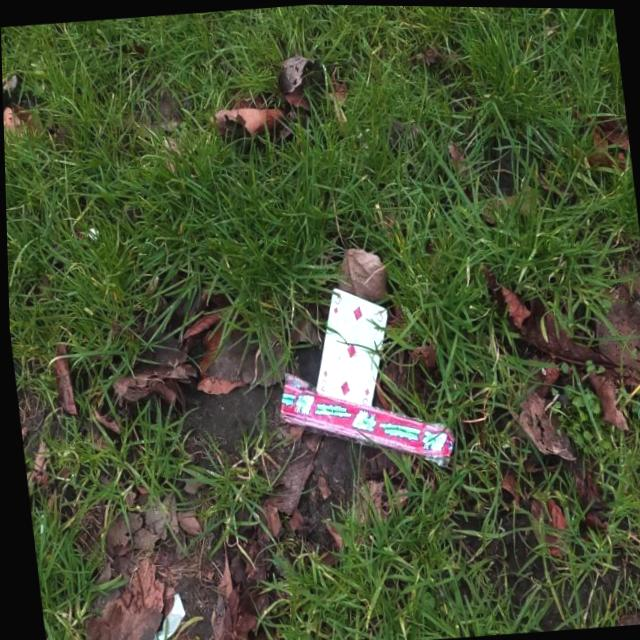Paper: (132, 590, 184, 640)
Plastic: (271, 355, 456, 480)
